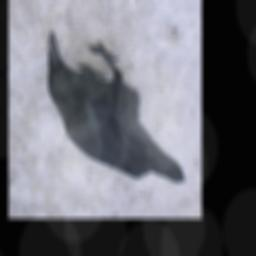Crow: (48, 31, 186, 183)
